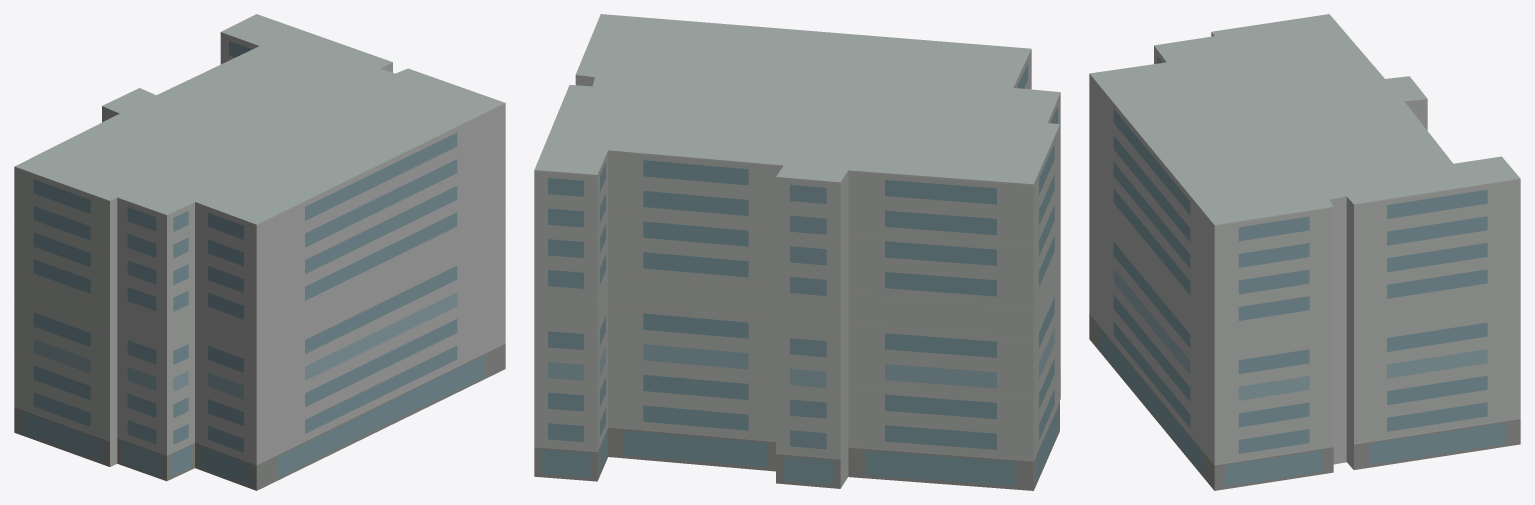
File: survey-upis-32998463.glb
3 renders of one model, left to right at view 1: azimuth 30°, elevation 25°; view 2: azimuth 150°, elevation 25°; view 3: azimuth 270°, elevation 25°, orthographic. The views are drawn at different scales.
Parts seen in each view (by area): view 1: survey-upis-32998463.tmp; view 2: survey-upis-32998463.tmp; view 3: survey-upis-32998463.tmp.
Boxes of the visible parts, x1,y1,x2,y2 form: survey-upis-32998463.tmp: [14, 14, 505, 490]; survey-upis-32998463.tmp: [534, 14, 1060, 490]; survey-upis-32998463.tmp: [1089, 14, 1520, 490].
Bounding box in the file's own units: 74.49 × 43.7 × 64.28.
